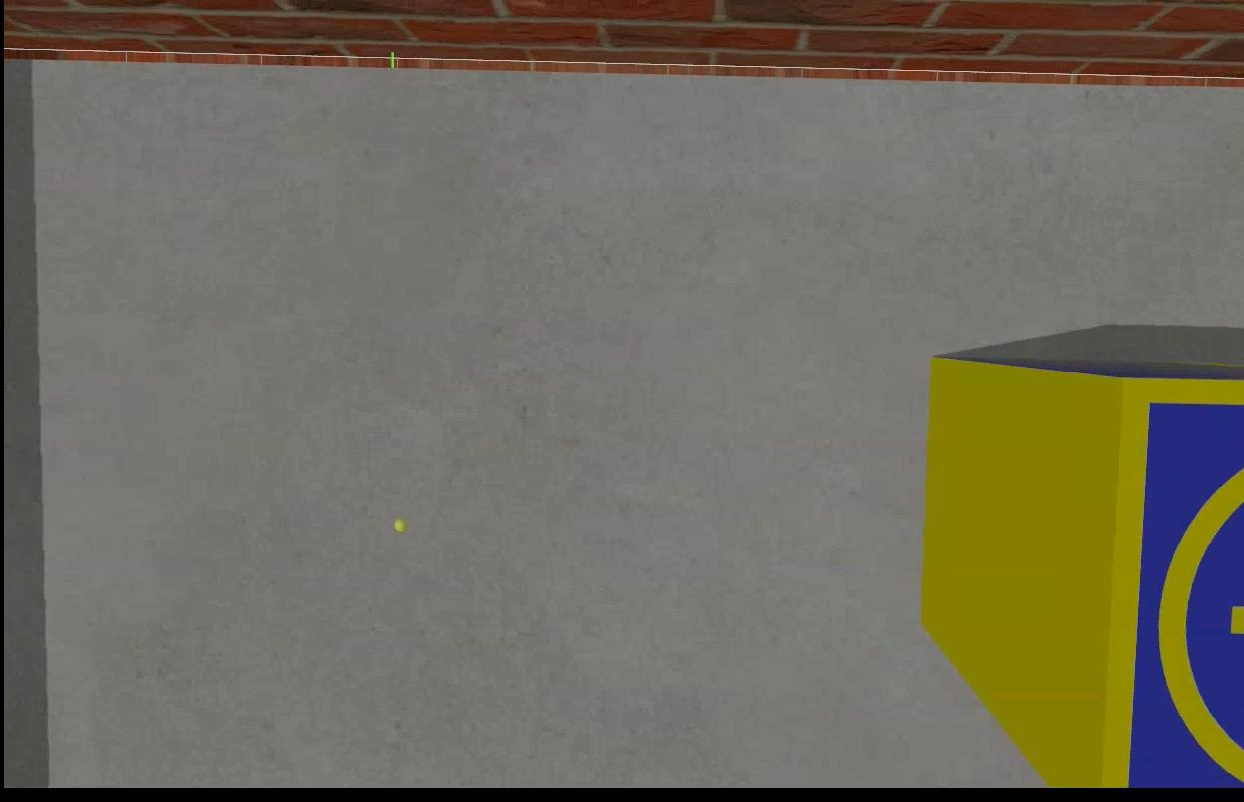small_base: (1098, 371, 1242, 789)
